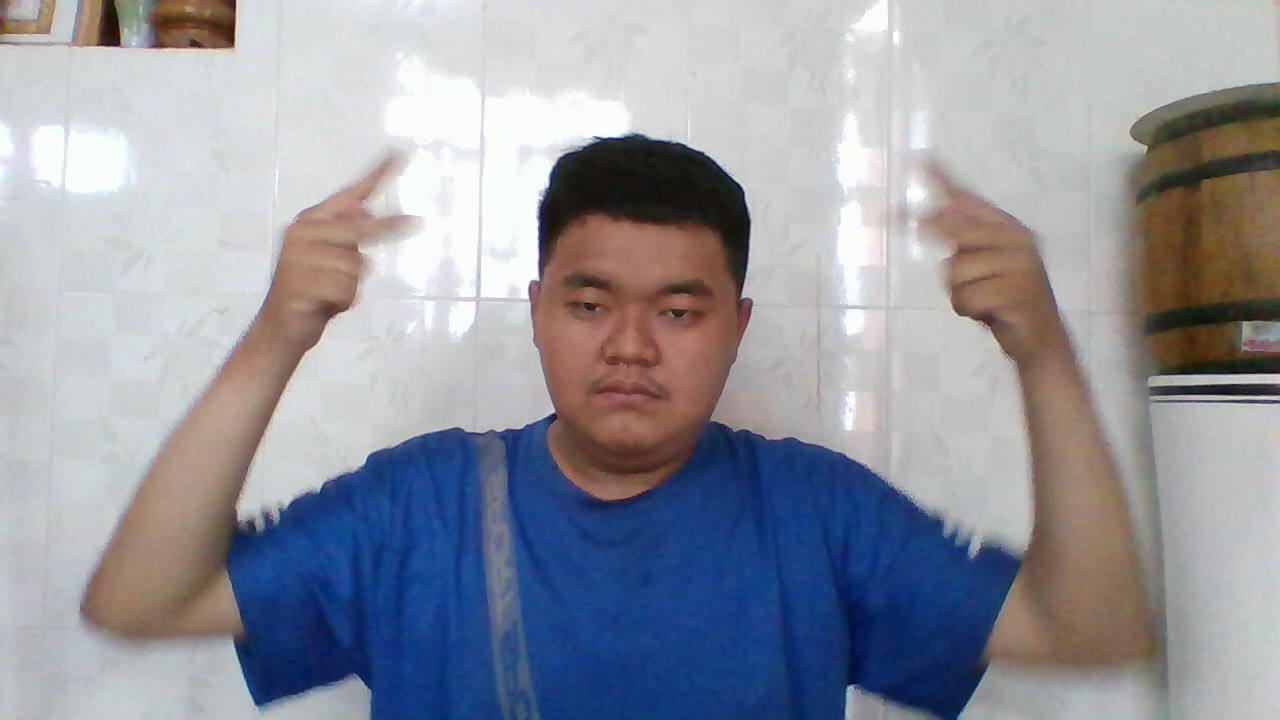K: (262, 140, 428, 358), (905, 149, 1063, 372)
